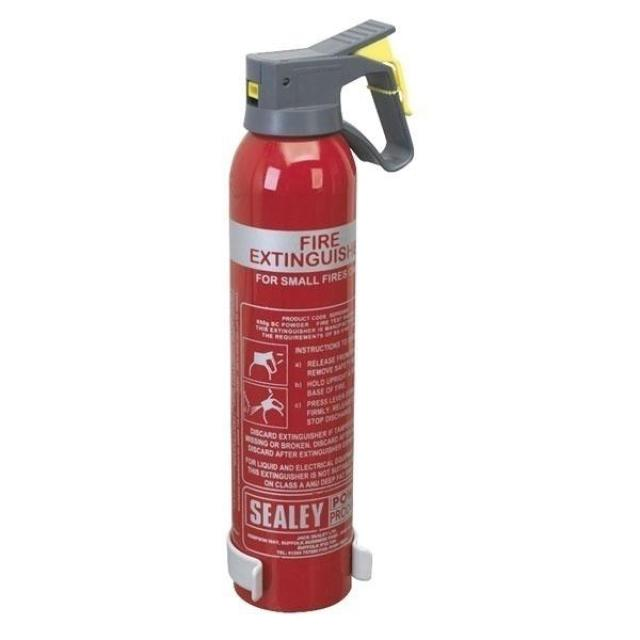fire_extinguisher: (222, 13, 420, 613)
